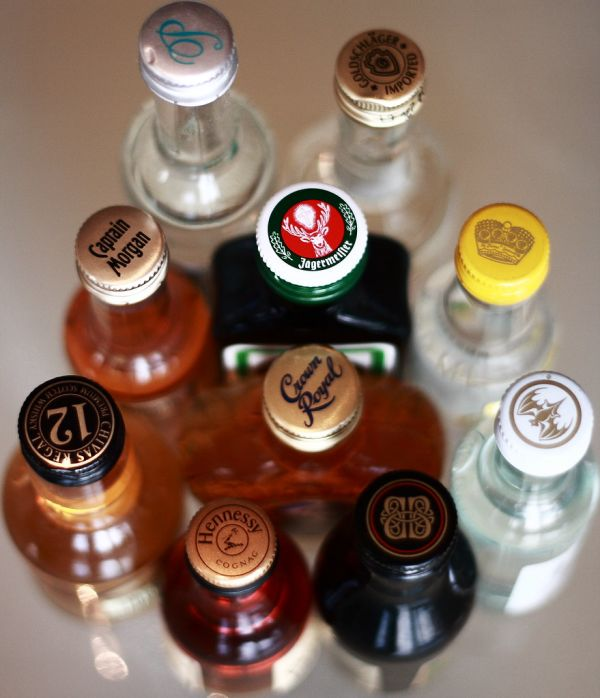unknown_bottle: (3, 375, 182, 623), (273, 29, 450, 251), (449, 372, 598, 618), (312, 470, 479, 678), (63, 203, 216, 422), (161, 497, 320, 698), (133, 3, 264, 223), (414, 202, 557, 390)
